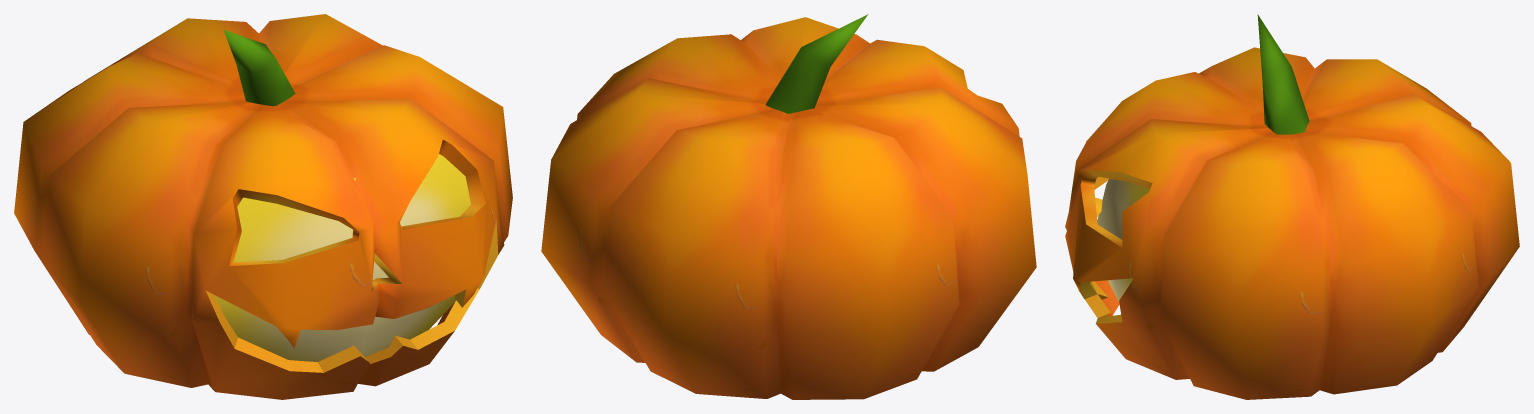
Rendered from Decor_Pumpkin_3.FBX.
3 views of the same model, side by side, from view 1: azimuth 30°, elevation 25°; view 2: azimuth 150°, elevation 25°; view 3: azimuth 270°, elevation 25° (orthographic). The views are drawn at different scales.
Visible parts, largest first — view 1: Decor_Pumpkin3_mod; view 2: Decor_Pumpkin3_mod; view 3: Decor_Pumpkin3_mod.
Boxes of the visible parts, bbox=[...] form: Decor_Pumpkin3_mod: bbox=[14, 14, 512, 399]; Decor_Pumpkin3_mod: bbox=[541, 14, 1036, 399]; Decor_Pumpkin3_mod: bbox=[1065, 14, 1519, 399].
Size of the model in its own units: 0.9699 by 0.6722 by 0.969.
